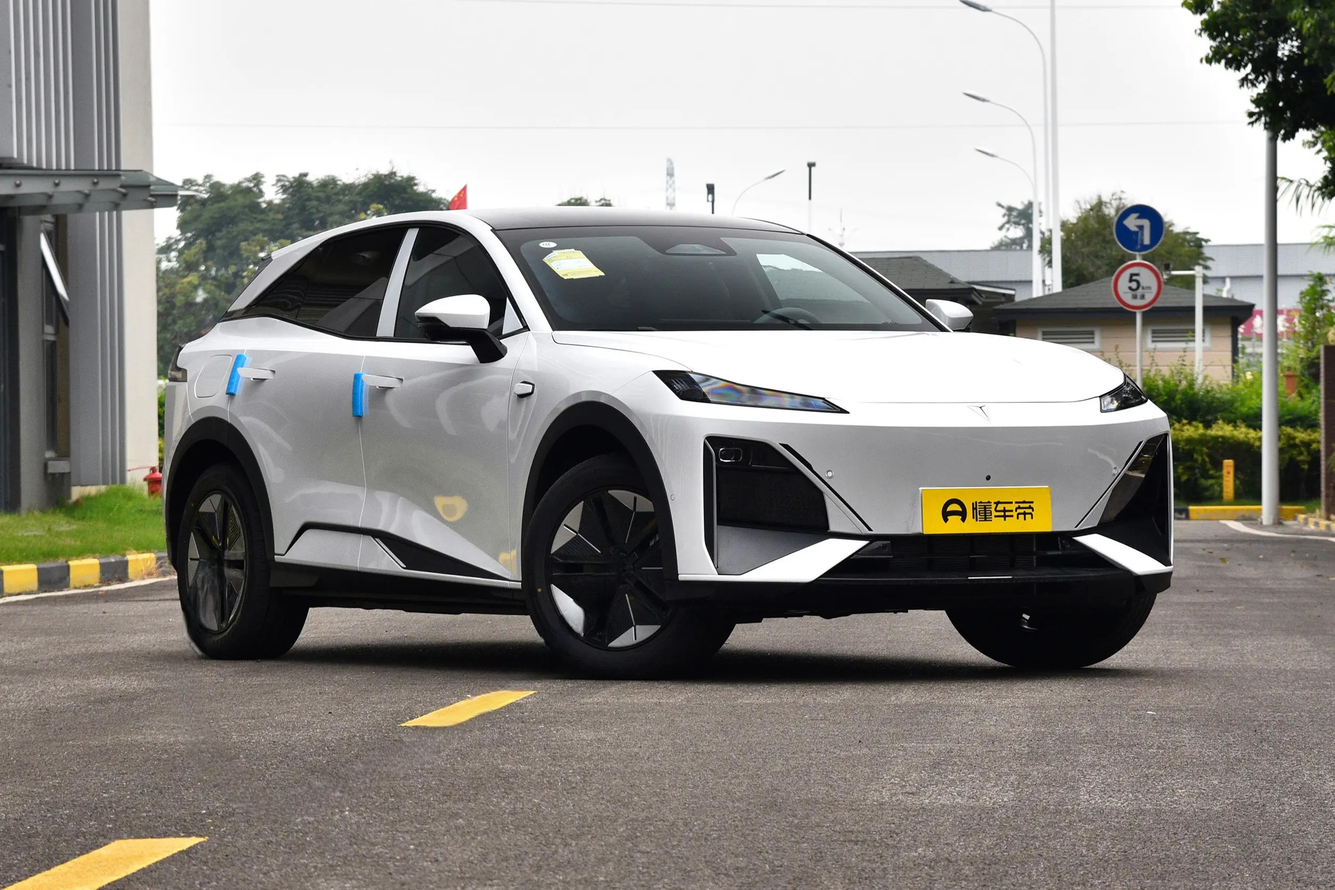Deepal: (967, 405, 990, 421)
